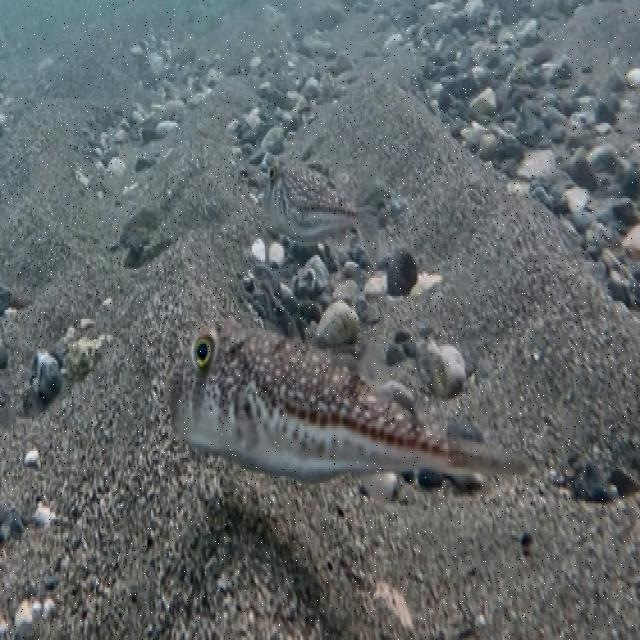Balik: (168, 328, 524, 482), (264, 160, 378, 266)
